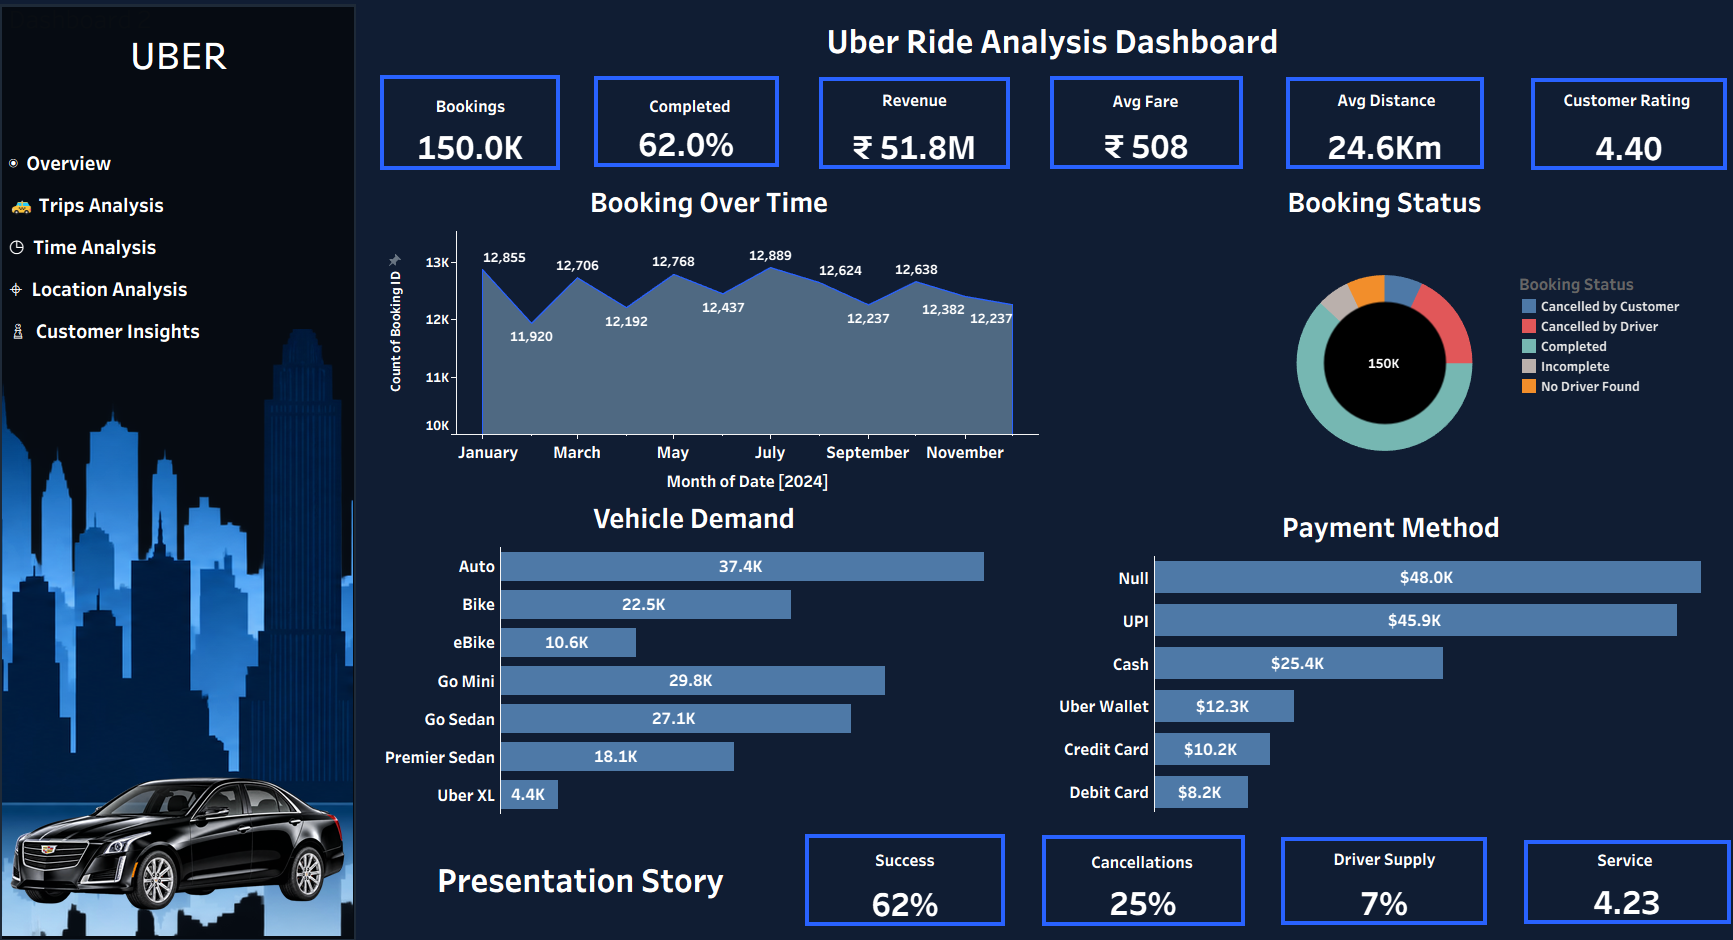

The page's visual inventory and layout, read from the dashboard file:
{"tool":"tableau","page":{"name":"Dashboard 2","canvas":[1000,1000],"units":"permille","ordinal":0},"visuals":[{"type":"title","box":[5.3,10.4,989.5,54.7]},{"type":"blank","box":[4.6,18.5,199.3,41.7]},{"type":"text","box":[216.7,23.4,770.1,57.3]},{"type":"text","box":[24.8,33.9,159.8,67.7]},{"type":"worksheet","title":"KPI Cards Bookings","mark":"Automatic","box":[218.1,86.1,104.1,102.5]},{"type":"worksheet","title":"Completed","mark":"Automatic","box":[339.9,87.2,106.7,100.3]},{"type":"worksheet","title":"Avg Fare","mark":"Automatic","box":[598.8,87.2,111.3,100.3]},{"type":"worksheet","title":"Revenue","mark":"Automatic","box":[467.7,88.5,110,99]},{"type":"worksheet","title":"Avg Distance","mark":"Automatic","box":[733.2,88.5,114,99]},{"type":"worksheet","title":"Customer Rating","mark":"Automatic","box":[872.2,89.8,113.3,99]},{"type":"text","box":[490.8,94.4,64.5,39.9]},{"type":"text","box":[757.9,94.4,66.5,39.9]},{"type":"text","box":[873,94.4,109.2,39.9]},{"type":"text","box":[6.6,95,191,347.7]},{"type":"text","box":[622.4,95.7,64.5,39.9]},{"type":"text","box":[363.6,100.3,63.9,40.4]},{"type":"text","box":[239.1,101.3,63.2,39.2]},{"type":"worksheet","title":"Booking Over Time","mark":"Area","rows":["Booking ID"],"cols":["Date"],"box":[218.7,196.6,374.8,333.3]},{"type":"worksheet","title":"Booking By Vehicle Type","mark":"Pie","cols":["Calculation_1659203208400896","Calculation_1659203208400896"],"box":[594.2,196.6,391.3,329.4]},{"type":"legend","title":"Booking By Vehicle Type","param":"[federated.0vwskr60xjlchf13gbq3y1n7l6sg].[none:Booking Status:nk]","box":[866.5,295.2,98.7,224.7]},{"type":"image","param":"Image/ChatGPT Image Sep 1, 2026, 08_29_14 PM.png","box":[4.6,352.9,199.6,632.8]},{"type":"worksheet","title":"Vehicle Demand","mark":"Automatic","rows":["Vehicle Type"],"cols":["Booking ID"],"box":[219.4,526,357.1,332]},{"type":"worksheet","title":"Payment Method","mark":"Automatic","rows":["Payment Method"],"cols":["Booking ID"],"box":[602.1,535.2,382.7,321.6]},{"type":"image","param":"Image/ChatGPT Image Aug 31, 2026, 07_36_21 PM.png","box":[5.9,786.1,196.3,193.7]},{"type":"worksheet","title":"Success","mark":"Automatic","box":[459.8,877.2,115.3,98.7]},{"type":"worksheet","title":"Cancellations","mark":"Automatic","box":[594.2,878.5,117.3,97.5]},{"type":"text","box":[224.6,879.8,217.4,92.4]},{"type":"worksheet","title":"Driver Supply","mark":"Automatic","box":[729.9,879.8,118.6,94.9]},{"type":"worksheet","title":"Service","mark":"Automatic","box":[868.2,883.5,119.2,91.1]},{"type":"text","box":[754.3,886.1,71.2,38]},{"type":"text","box":[484.9,887.3,65.9,38]},{"type":"text","box":[893.9,887.3,65.9,38]},{"type":"text","box":[617.3,889.9,70.5,38]}]}

Visuals, with their boxes on the dashboard's canvas, which has no fixed pixel size, in thousandths of its width and height (x1, y1, x2, y2). These are canvas units, not pixel positions in the 1733x940 screenshot, which may show the page scaled, cropped or inside an application window:
title: {"x1": 5, "y1": 10, "x2": 995, "y2": 65}
blank: {"x1": 5, "y1": 18, "x2": 204, "y2": 60}
text: {"x1": 217, "y1": 23, "x2": 987, "y2": 81}
text: {"x1": 25, "y1": 34, "x2": 185, "y2": 102}
"KPI Cards Bookings" worksheet: {"x1": 218, "y1": 86, "x2": 322, "y2": 189}
"Completed" worksheet: {"x1": 340, "y1": 87, "x2": 447, "y2": 188}
"Avg Fare" worksheet: {"x1": 599, "y1": 87, "x2": 710, "y2": 188}
"Revenue" worksheet: {"x1": 468, "y1": 88, "x2": 578, "y2": 188}
"Avg Distance" worksheet: {"x1": 733, "y1": 88, "x2": 847, "y2": 188}
"Customer Rating" worksheet: {"x1": 872, "y1": 90, "x2": 986, "y2": 189}
text: {"x1": 491, "y1": 94, "x2": 555, "y2": 134}
text: {"x1": 758, "y1": 94, "x2": 824, "y2": 134}
text: {"x1": 873, "y1": 94, "x2": 982, "y2": 134}
text: {"x1": 7, "y1": 95, "x2": 198, "y2": 443}
text: {"x1": 622, "y1": 96, "x2": 687, "y2": 136}
text: {"x1": 364, "y1": 100, "x2": 428, "y2": 141}
text: {"x1": 239, "y1": 101, "x2": 302, "y2": 140}
"Booking Over Time" worksheet (Area marks): {"x1": 219, "y1": 197, "x2": 594, "y2": 530}
"Booking By Vehicle Type" worksheet (Pie marks): {"x1": 594, "y1": 197, "x2": 986, "y2": 526}
"Booking By Vehicle Type" legend: {"x1": 866, "y1": 295, "x2": 965, "y2": 520}
image: {"x1": 5, "y1": 353, "x2": 204, "y2": 986}
"Vehicle Demand" worksheet: {"x1": 219, "y1": 526, "x2": 576, "y2": 858}
"Payment Method" worksheet: {"x1": 602, "y1": 535, "x2": 985, "y2": 857}
image: {"x1": 6, "y1": 786, "x2": 202, "y2": 980}
"Success" worksheet: {"x1": 460, "y1": 877, "x2": 575, "y2": 976}
"Cancellations" worksheet: {"x1": 594, "y1": 878, "x2": 712, "y2": 976}
text: {"x1": 225, "y1": 880, "x2": 442, "y2": 972}
"Driver Supply" worksheet: {"x1": 730, "y1": 880, "x2": 848, "y2": 975}
"Service" worksheet: {"x1": 868, "y1": 884, "x2": 987, "y2": 975}
text: {"x1": 754, "y1": 886, "x2": 826, "y2": 924}
text: {"x1": 485, "y1": 887, "x2": 551, "y2": 925}
text: {"x1": 894, "y1": 887, "x2": 960, "y2": 925}
text: {"x1": 617, "y1": 890, "x2": 688, "y2": 928}
